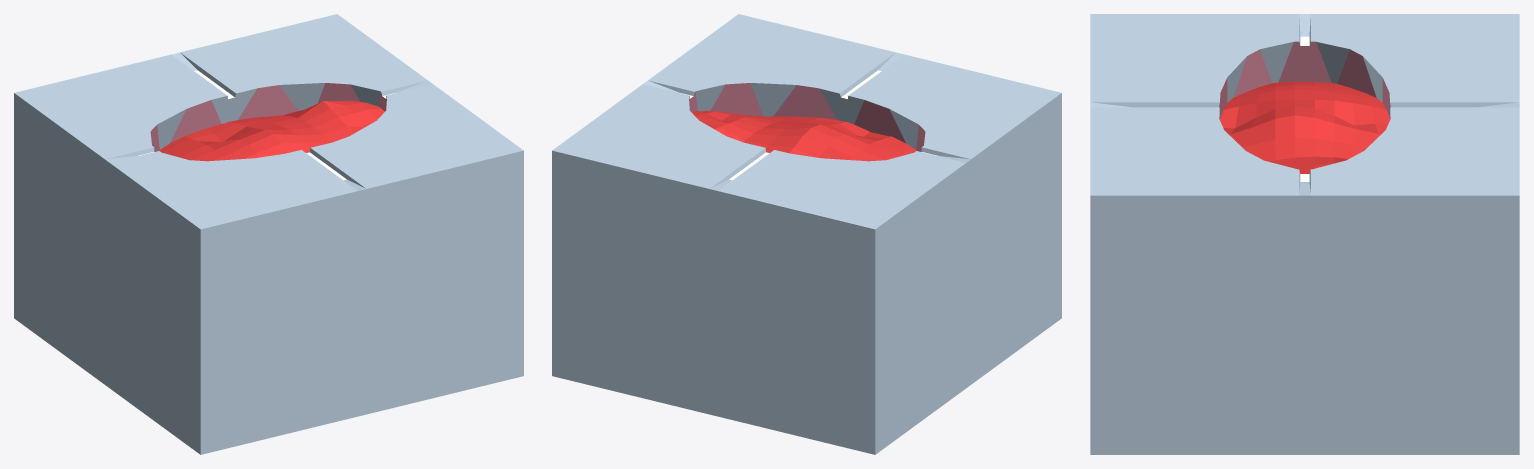
The model's file is SmallPitChunk.fbx.
3 views of the same model, side by side, from view 1: azimuth 30°, elevation 25°; view 2: azimuth 150°, elevation 25°; view 3: azimuth 270°, elevation 25° (orthographic). The views are drawn at different scales.
Visible parts, largest first — view 1: SmallPit, Icosphere; view 2: SmallPit, Icosphere; view 3: SmallPit, Icosphere.
Boxes of the visible parts, x1,y1,x2,y2 form: SmallPit: (14, 14, 523, 454); Icosphere: (159, 100, 384, 161); SmallPit: (552, 14, 1061, 454); Icosphere: (691, 111, 916, 161); SmallPit: (1090, 14, 1519, 454); Icosphere: (1220, 81, 1390, 173).
Bounding box in the file's own units: 600 × 400 × 600.
